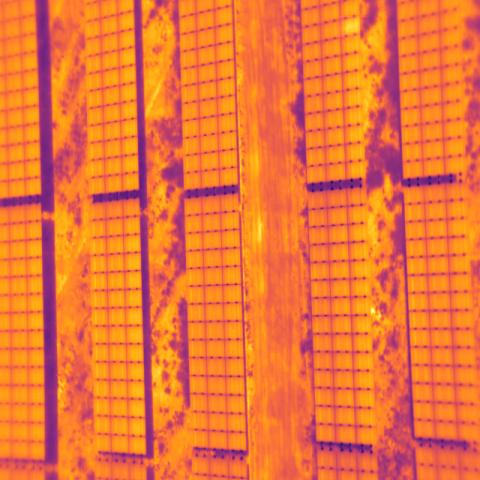fault: (339, 16, 360, 38)
